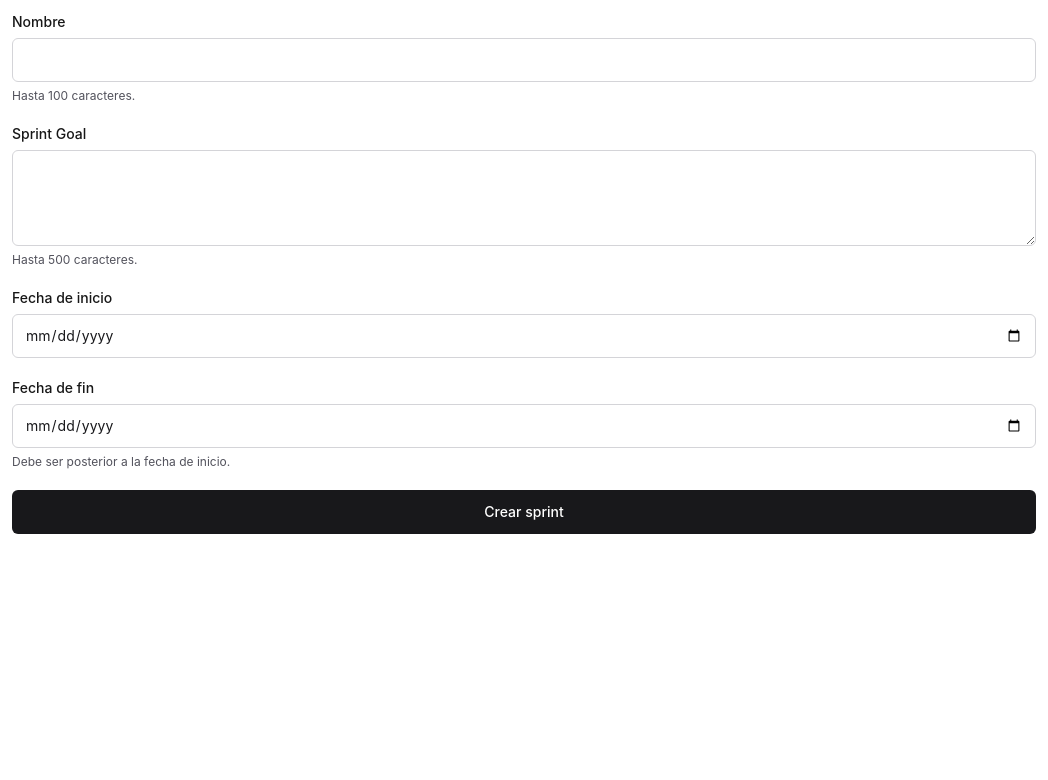
Scenario: 004/US1 - Planificar un sprint › Superposición
Type "Sprint 2" into the field labelled "Nombre". click: (524,60)
box: x1=12 y1=38 x2=1036 y2=82
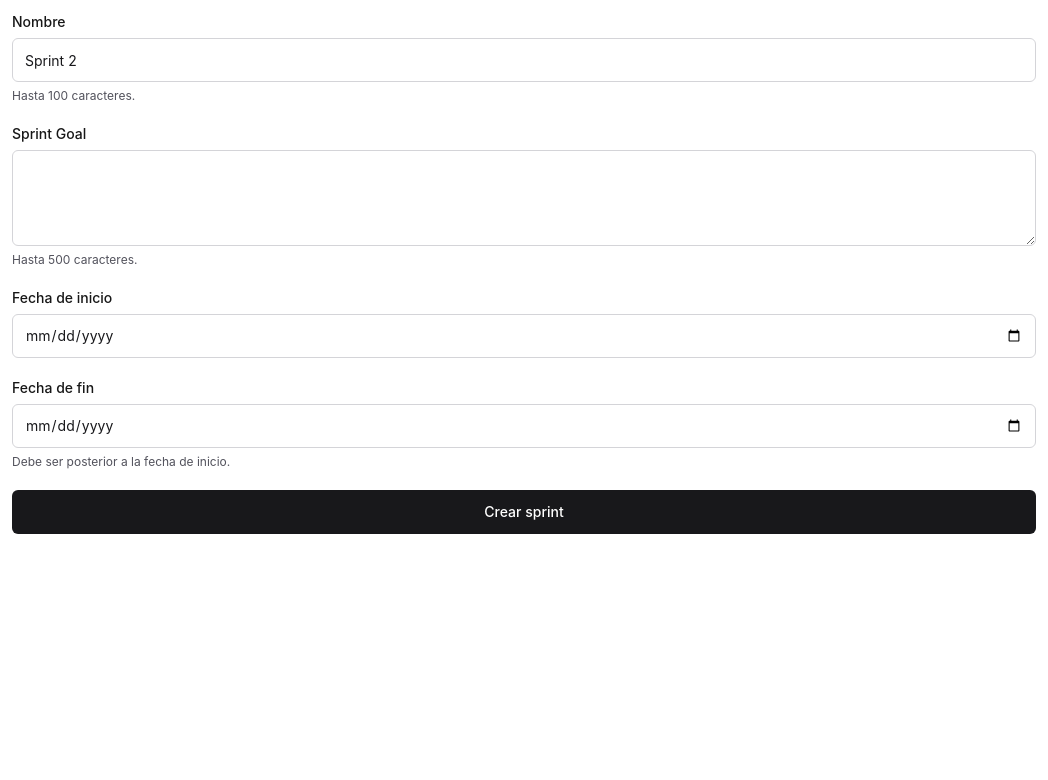
Type "Cerrar el alta de clientes" into the text box labelled "Sprint Goal". click: (524,198)
box: x1=12 y1=150 x2=1036 y2=246
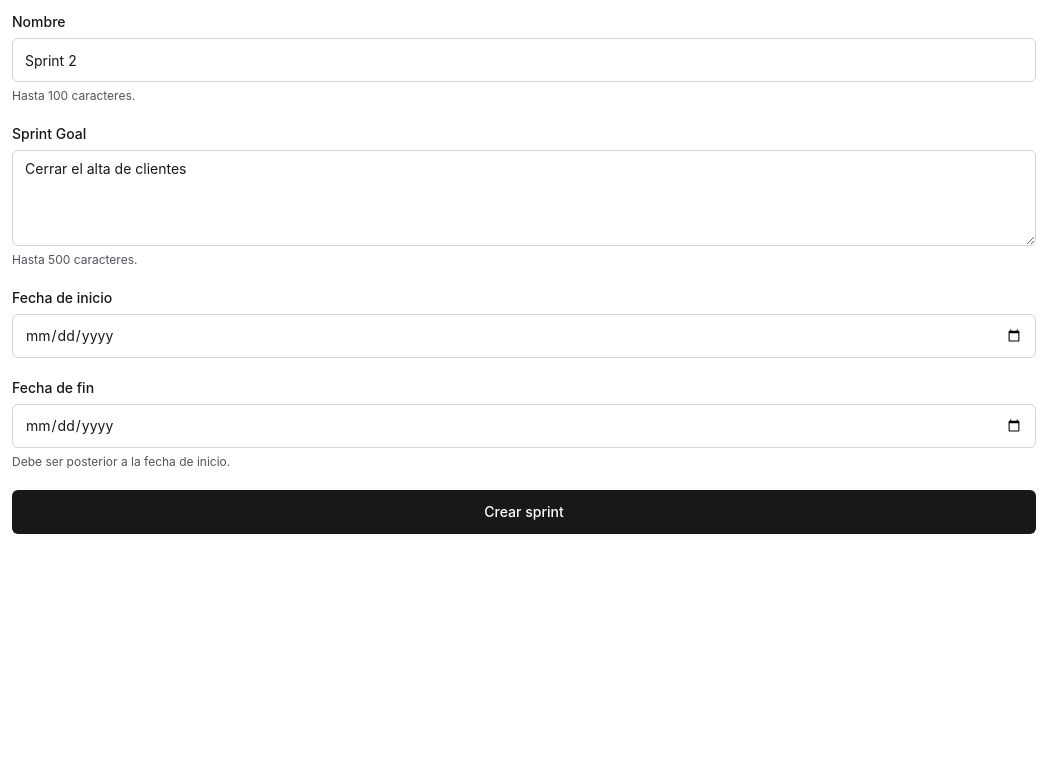
Type "2026-10-10" into the date field labelled "Fecha de inicio". click: (524,336)
box: x1=12 y1=314 x2=1036 y2=358
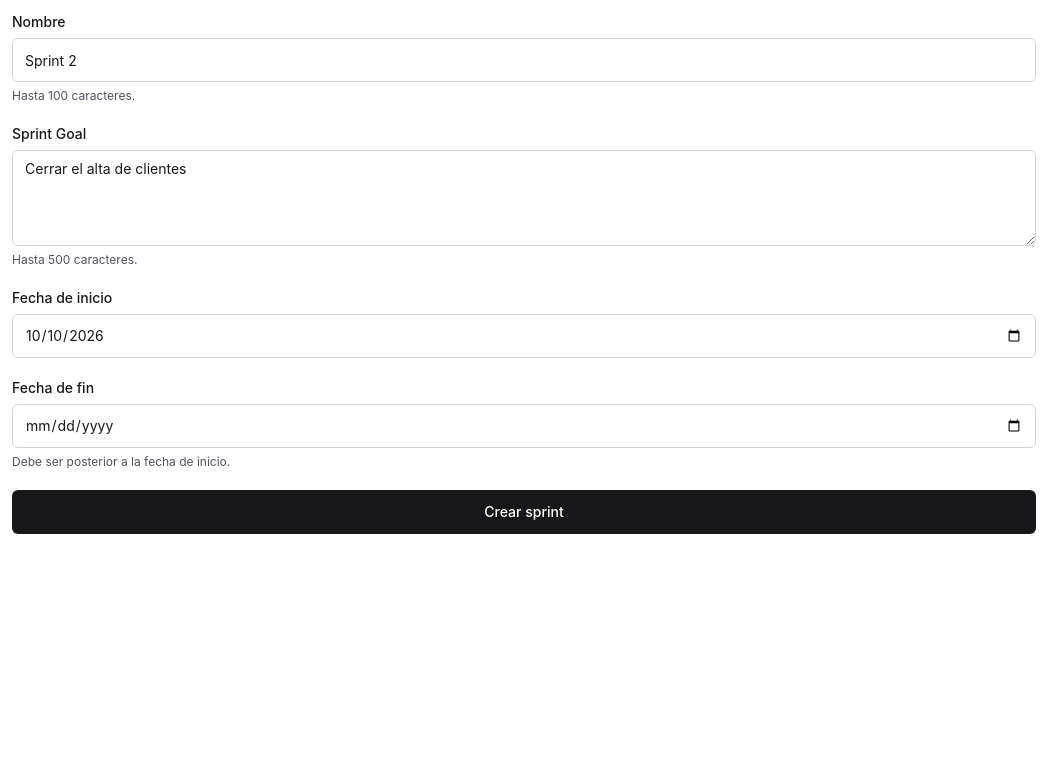
Type "2026-10-20" into the date field labelled "Fecha de fin". click: (524,426)
box: x1=12 y1=404 x2=1036 y2=448
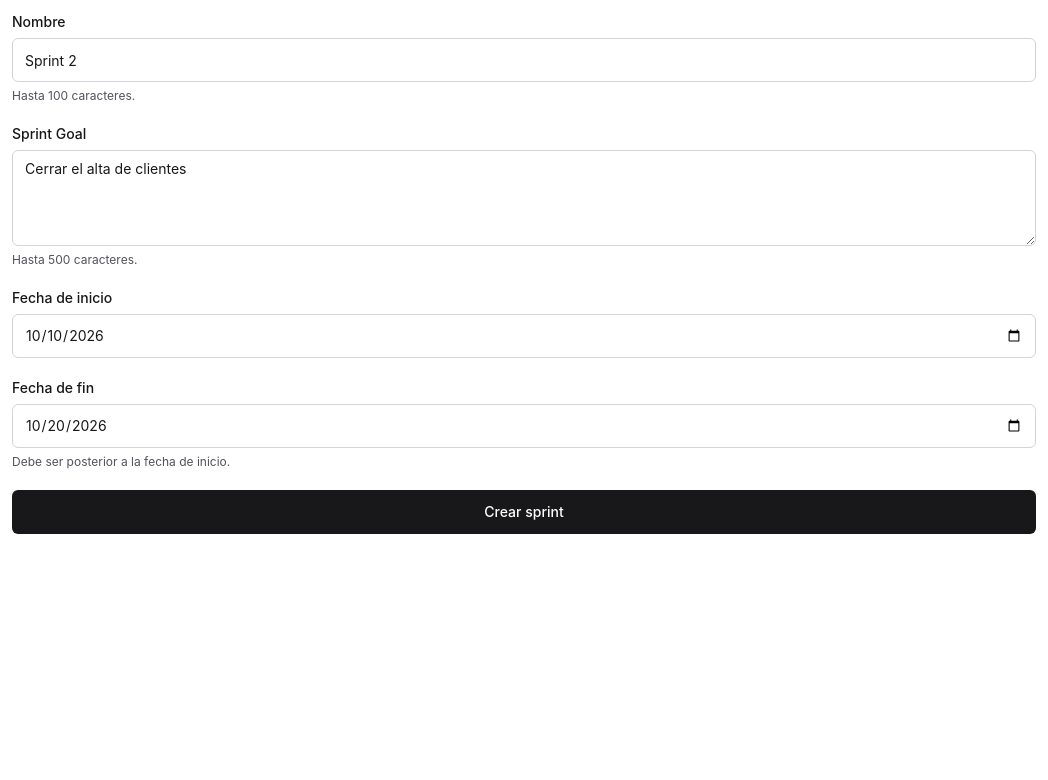
Click the button "Crear sprint". click: (524,512)
box: x1=12 y1=490 x2=1036 y2=534
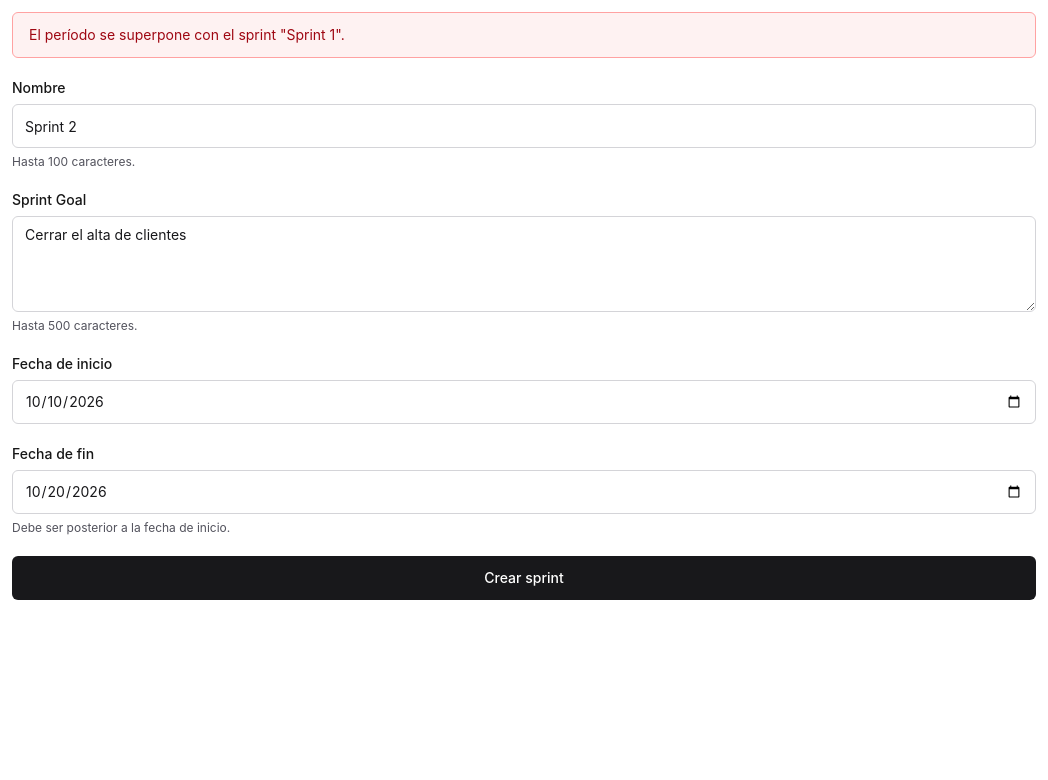
Result: the message shows "Sprint 1" at x1=29 y1=26 x2=345 y2=43
